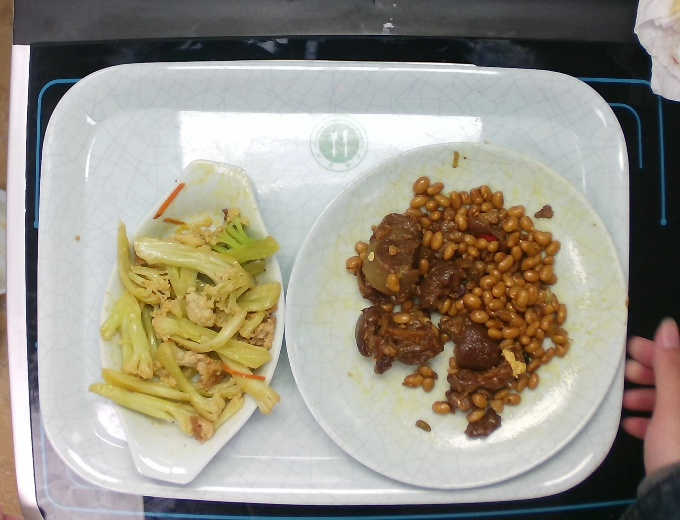JYsf-Da_Yuan_Pan: (280, 140, 633, 491)
JYsf-Yu_Pan: (97, 158, 290, 485)
